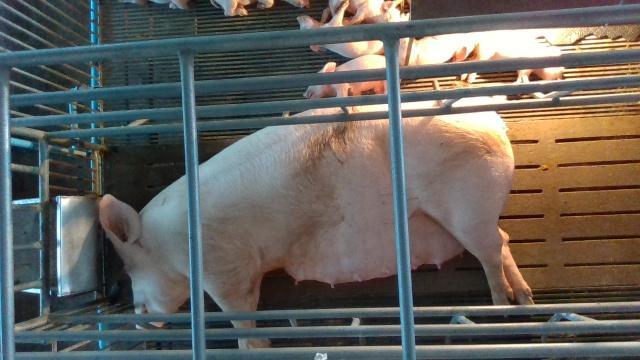piglet: (460, 30, 565, 84), (296, 0, 386, 60), (304, 55, 388, 114)
sow-sleep-lactate: (99, 96, 534, 349)
